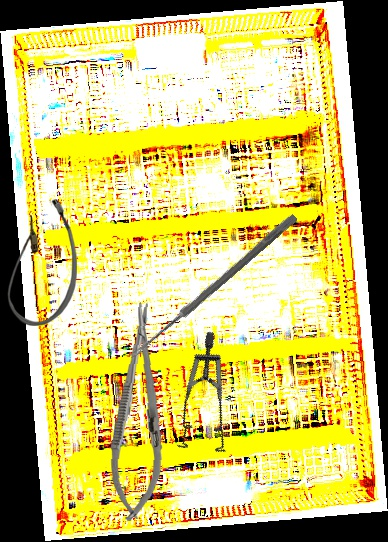Cannula: (7, 199, 77, 326)
Needle Holder: (106, 301, 172, 523)
Speculum: (141, 329, 279, 472)
Surgical Spoon: (128, 212, 298, 362)
